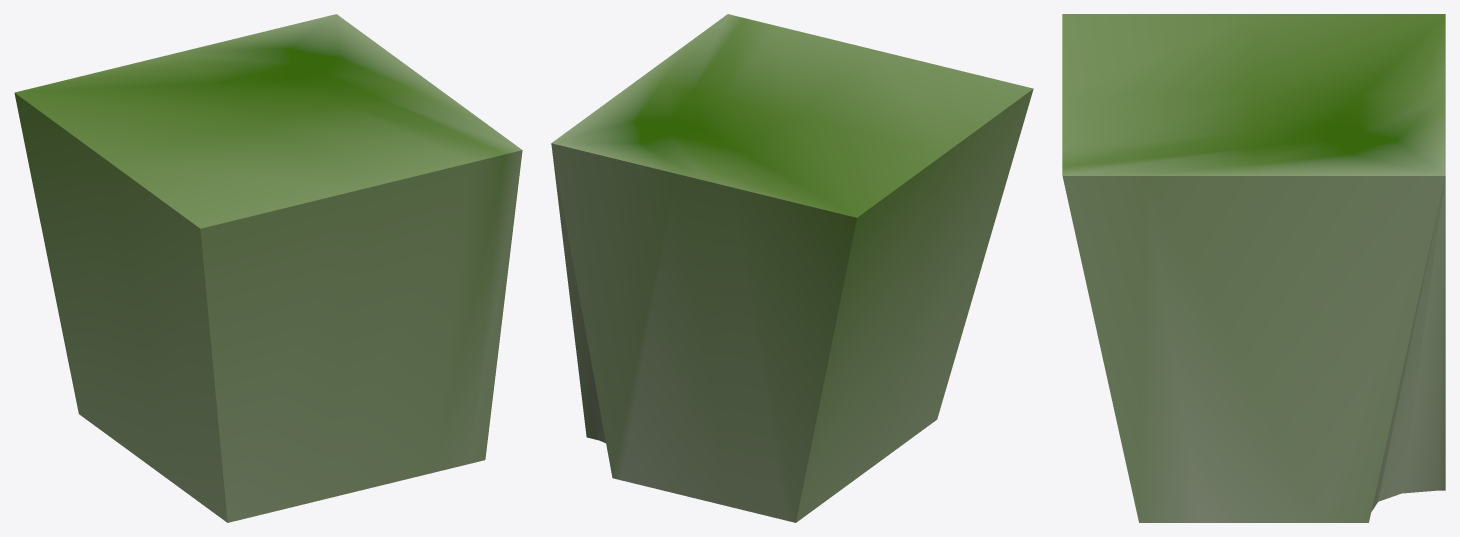
File: T11DirF.fbx
3 renders of one model, left to right at view 1: azimuth 30°, elevation 25°; view 2: azimuth 150°, elevation 25°; view 3: azimuth 270°, elevation 25°, orthographic. The views are drawn at different scales.
Parts seen in each view (by area): view 1: 3, 1, 4, 2; view 2: 4, 2, 3, 1; view 3: 2, 1, 3, 4.
Boxes of the visible parts, bbox=[...] form: 3: bbox=[107, 121, 361, 522]; 1: bbox=[269, 82, 522, 499]; 4: bbox=[14, 53, 267, 481]; 2: bbox=[176, 14, 428, 121]; 4: bbox=[704, 116, 945, 522]; 2: bbox=[551, 78, 791, 500]; 3: bbox=[793, 51, 1033, 457]; 1: bbox=[640, 14, 880, 115]; 2: bbox=[1254, 95, 1445, 522]; 1: bbox=[1062, 95, 1253, 522]; 3: bbox=[1062, 14, 1253, 94]; 4: bbox=[1254, 14, 1445, 94].
Bounding box in the file's own units: 200 × 200 × 200.
